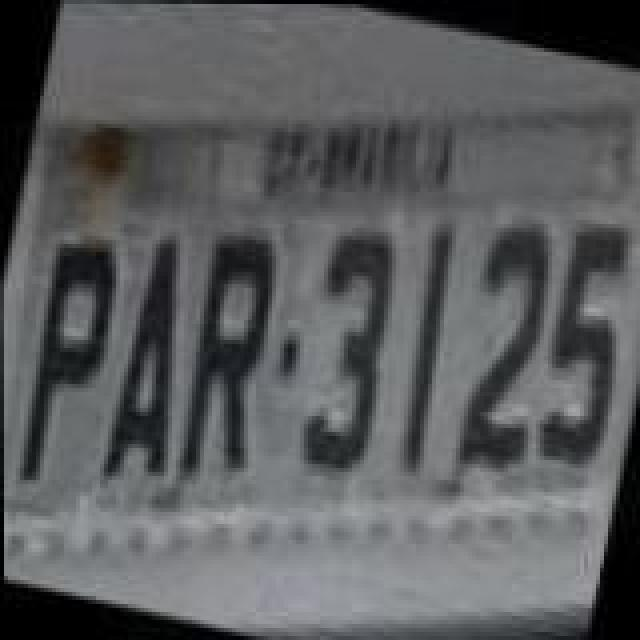1: (380, 218, 472, 482)
2: (442, 212, 570, 472)
3: (282, 216, 410, 480)
5: (520, 206, 640, 470)
A: (94, 230, 214, 498)
P: (4, 228, 128, 500)
R: (164, 218, 296, 494)
